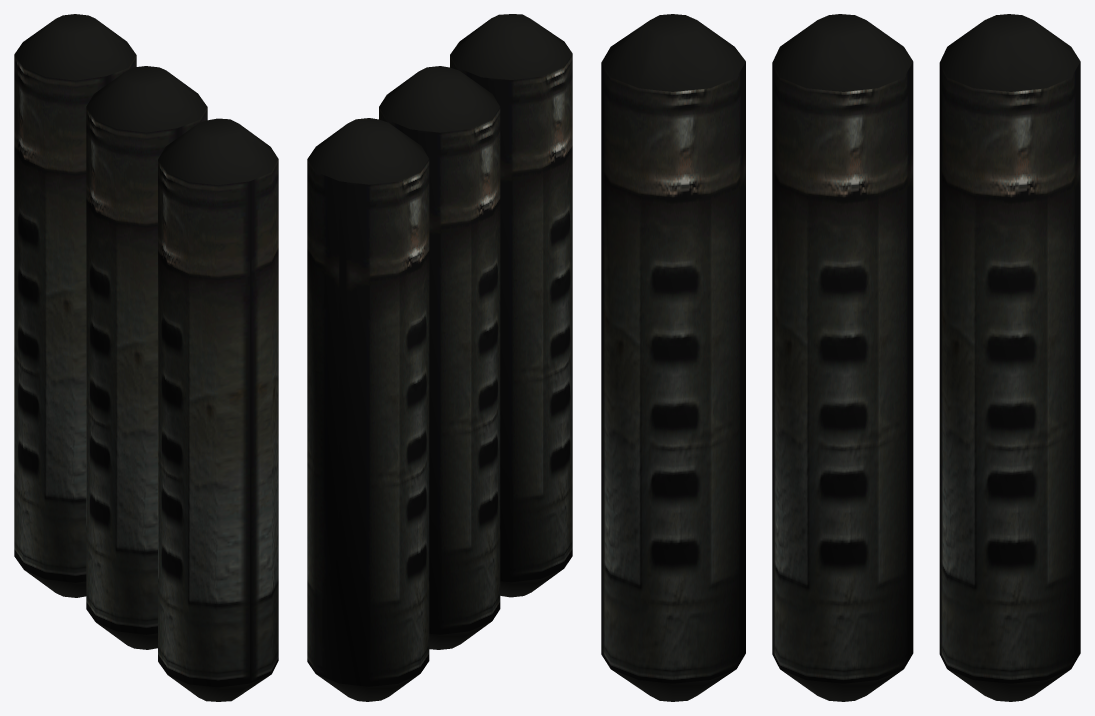
The model's file is tank1.obj.
3 renders of one model, left to right at view 1: azimuth 30°, elevation 25°; view 2: azimuth 150°, elevation 25°; view 3: azimuth 270°, elevation 25°, orthographic. The views are drawn at different scales.
Parts seen in each view (by area): view 1: Group; view 2: Group; view 3: Group.
Part boxes in pixels (x1,y1,x2,y2): Group: (14, 14, 278, 701); Group: (307, 14, 572, 701); Group: (601, 14, 1080, 701).
Size of the model in its own units: 8.26 by 42.79 by 27.97.
